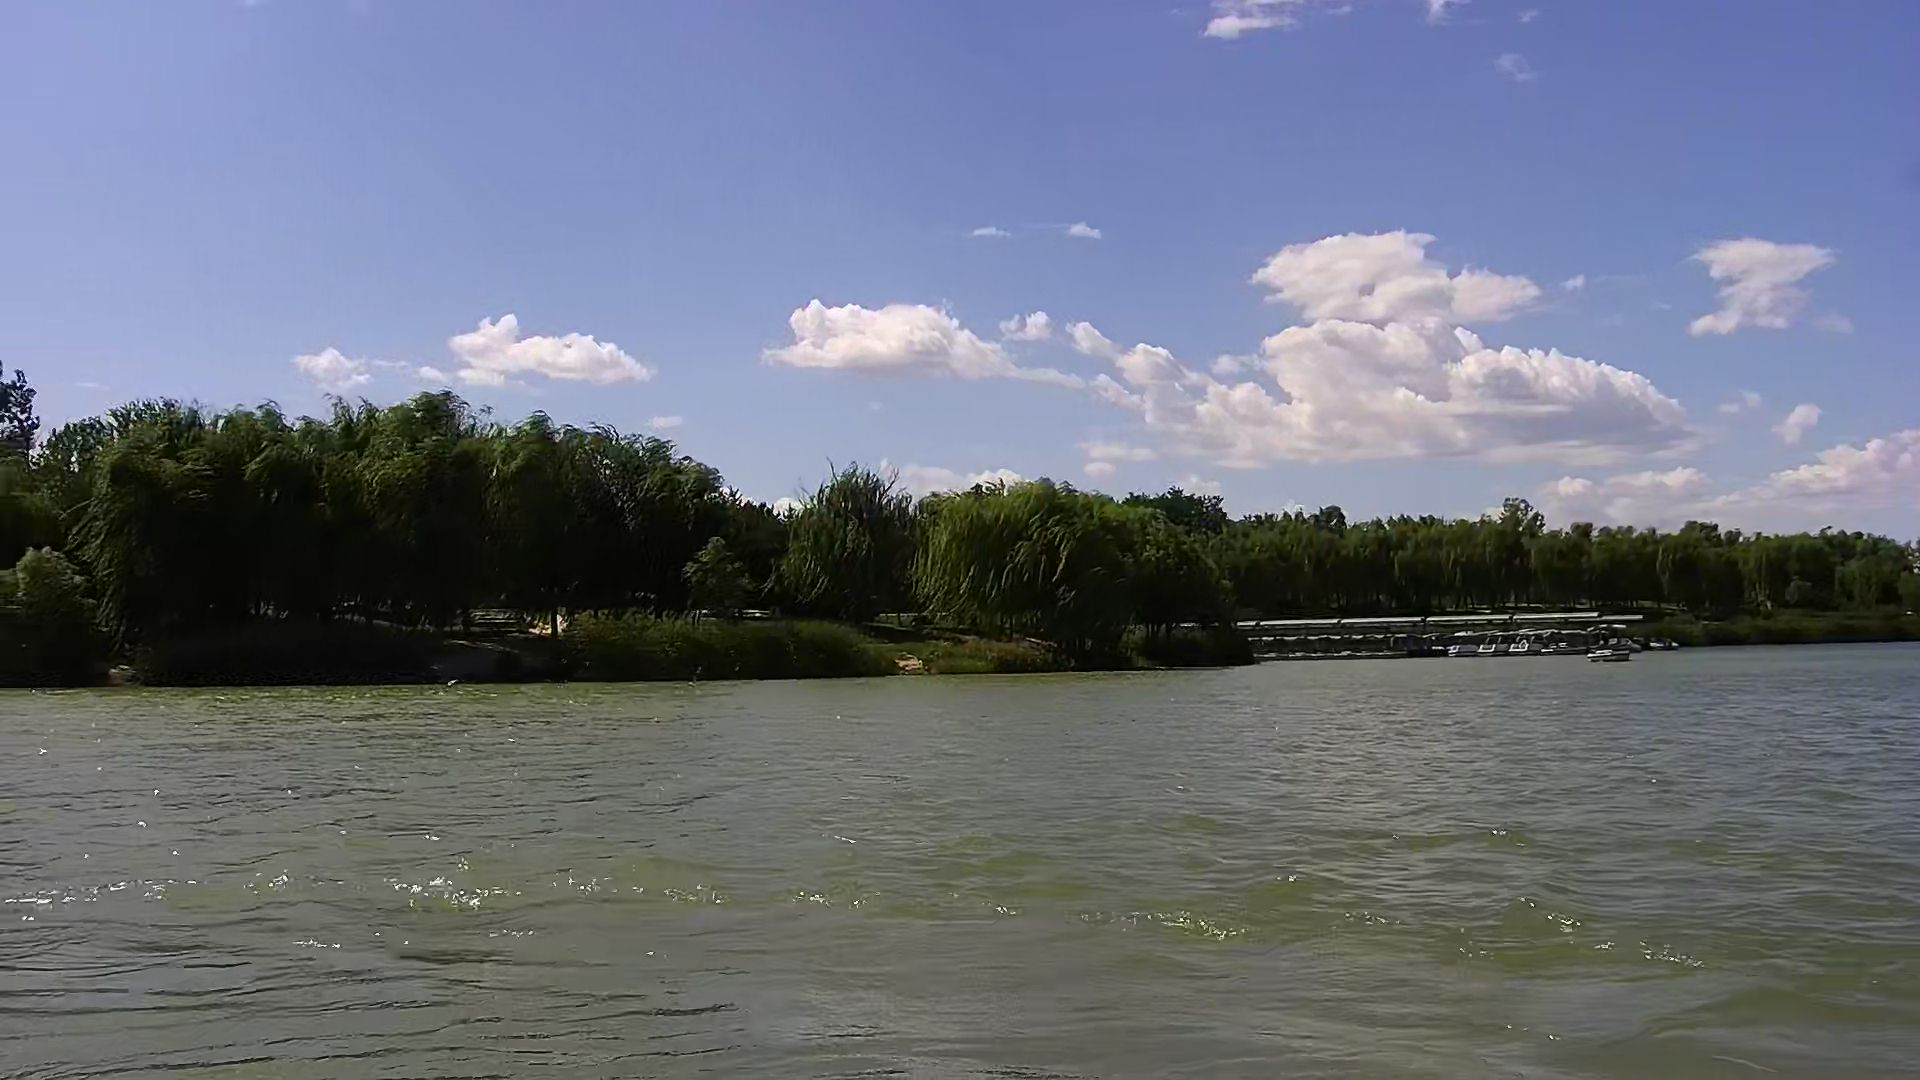boat: (1542, 628, 1589, 655), (1586, 645, 1633, 667), (1511, 632, 1553, 655), (1476, 632, 1515, 657), (1445, 630, 1478, 658)
harbor: (1255, 612, 1640, 659)
